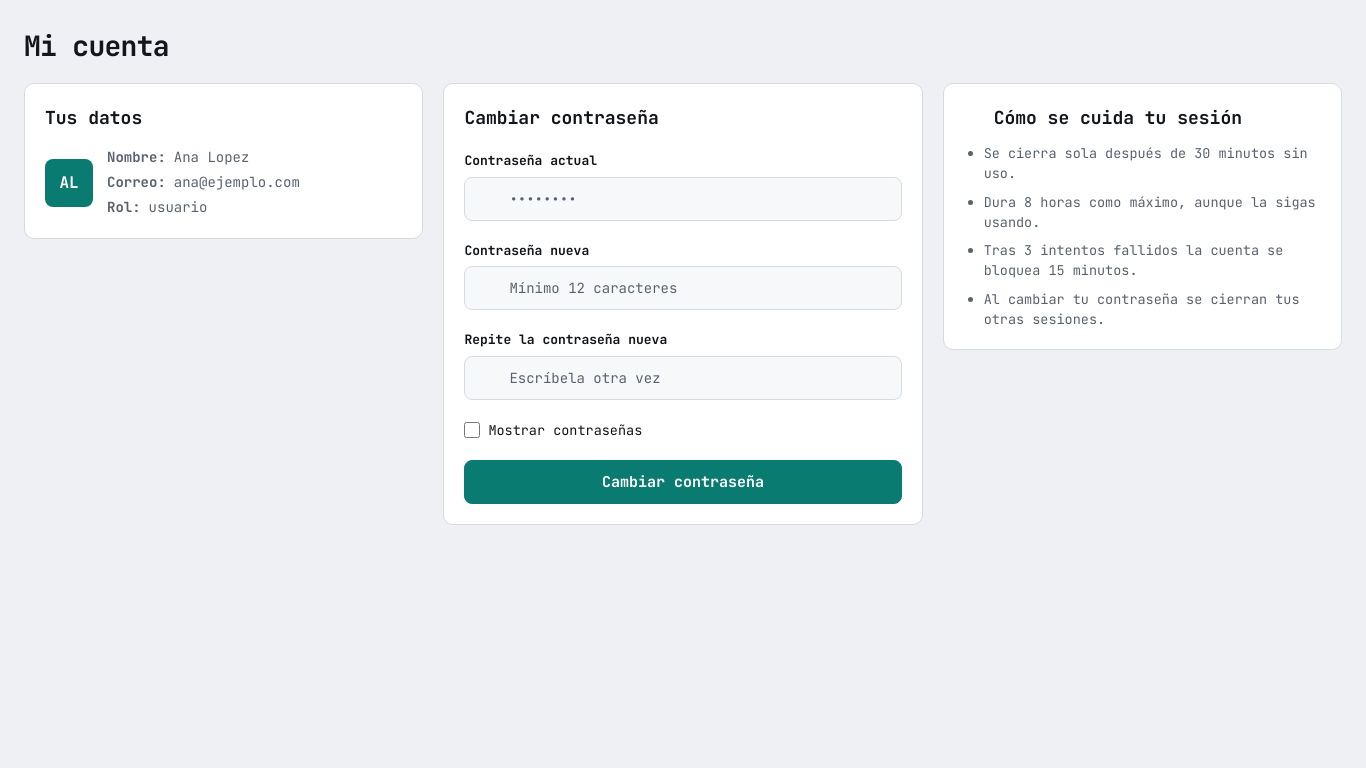
Test: PaginaMiCuenta › cambia la contraseña, avisa y limpia los campos
Type "la-clave-actual" into the password field labelled "Contraseña actual".
click(683, 198); type("la-clave-actual")  # box [464,176,902,220]
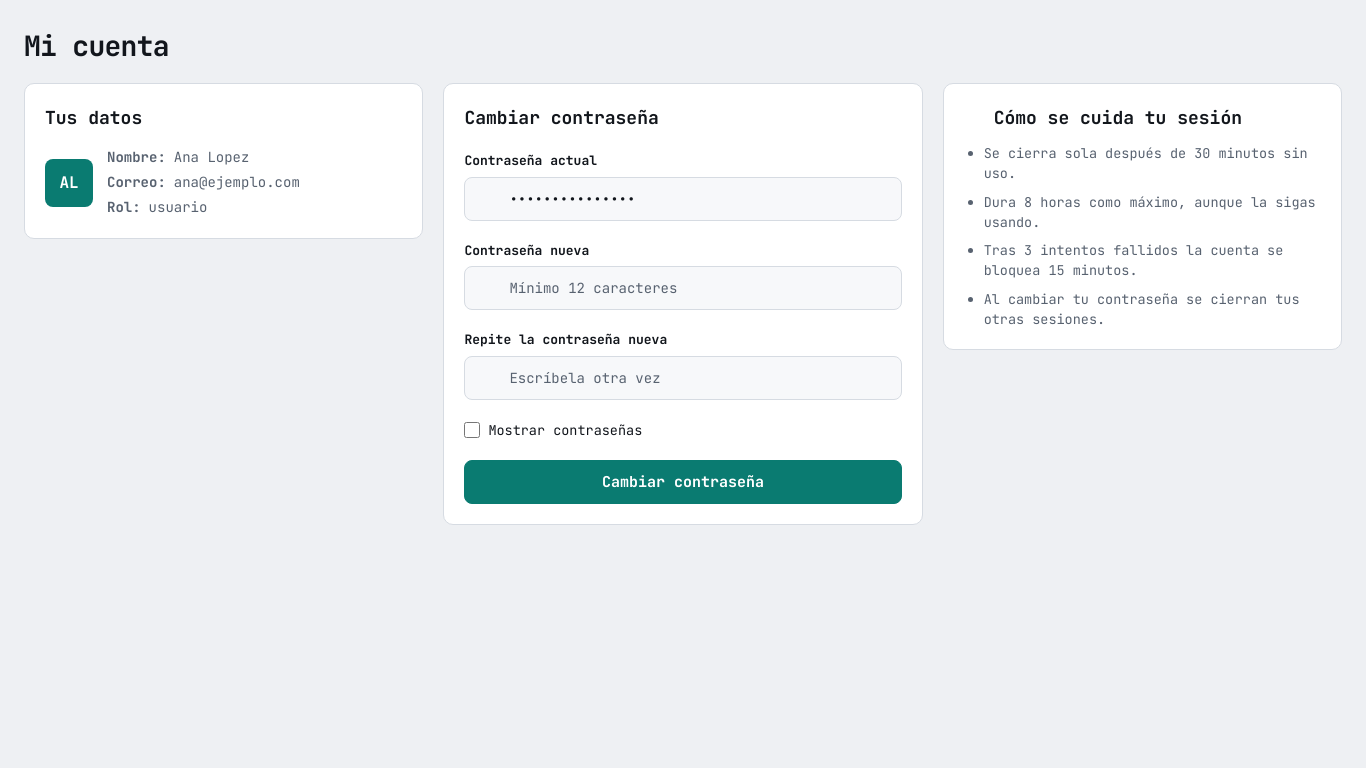
Type "una-clave-nueva-1" into the password field labelled "Contraseña nueva".
click(683, 288); type("una-clave-nueva-1")  # box [464,266,902,310]
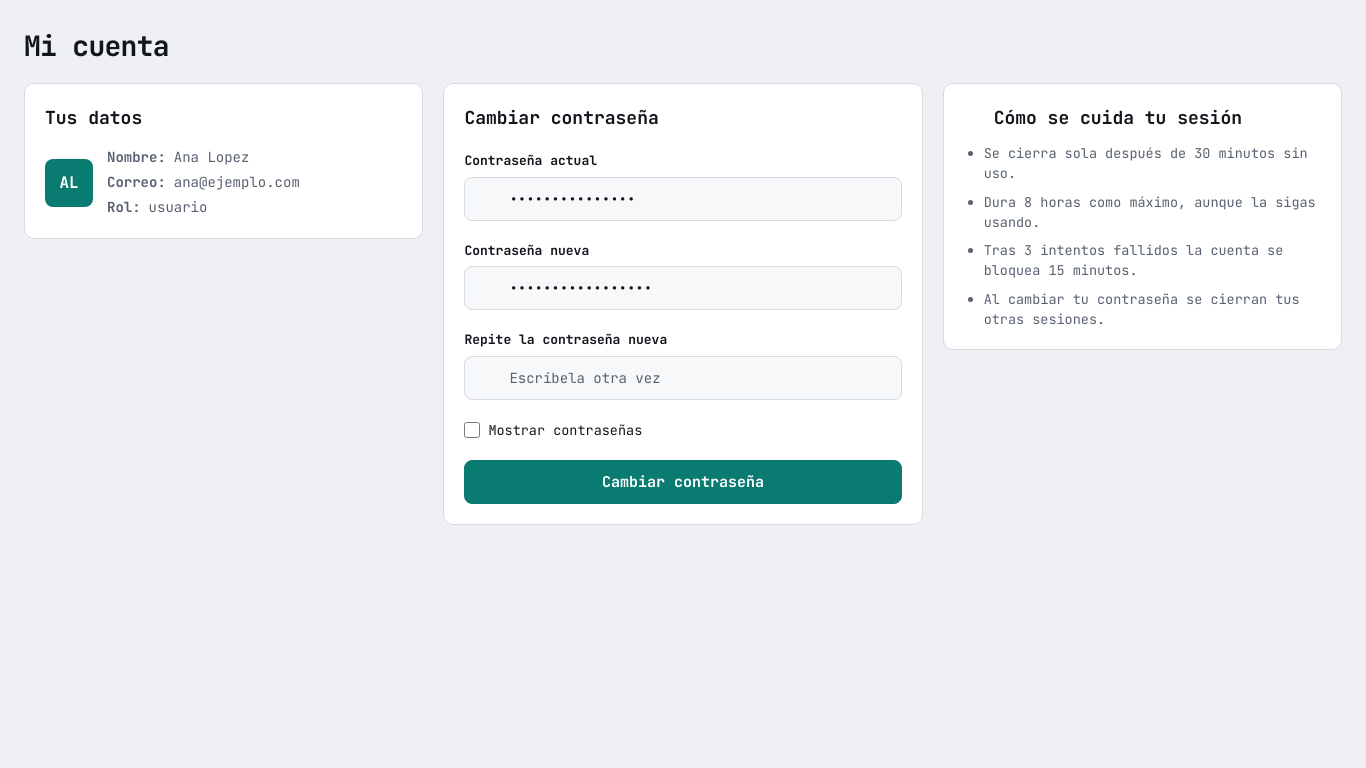
Type "una-clave-nueva-1" into the password field labelled "Repite la contraseña nueva".
click(683, 378); type("una-clave-nueva-1")  # box [464,356,902,400]
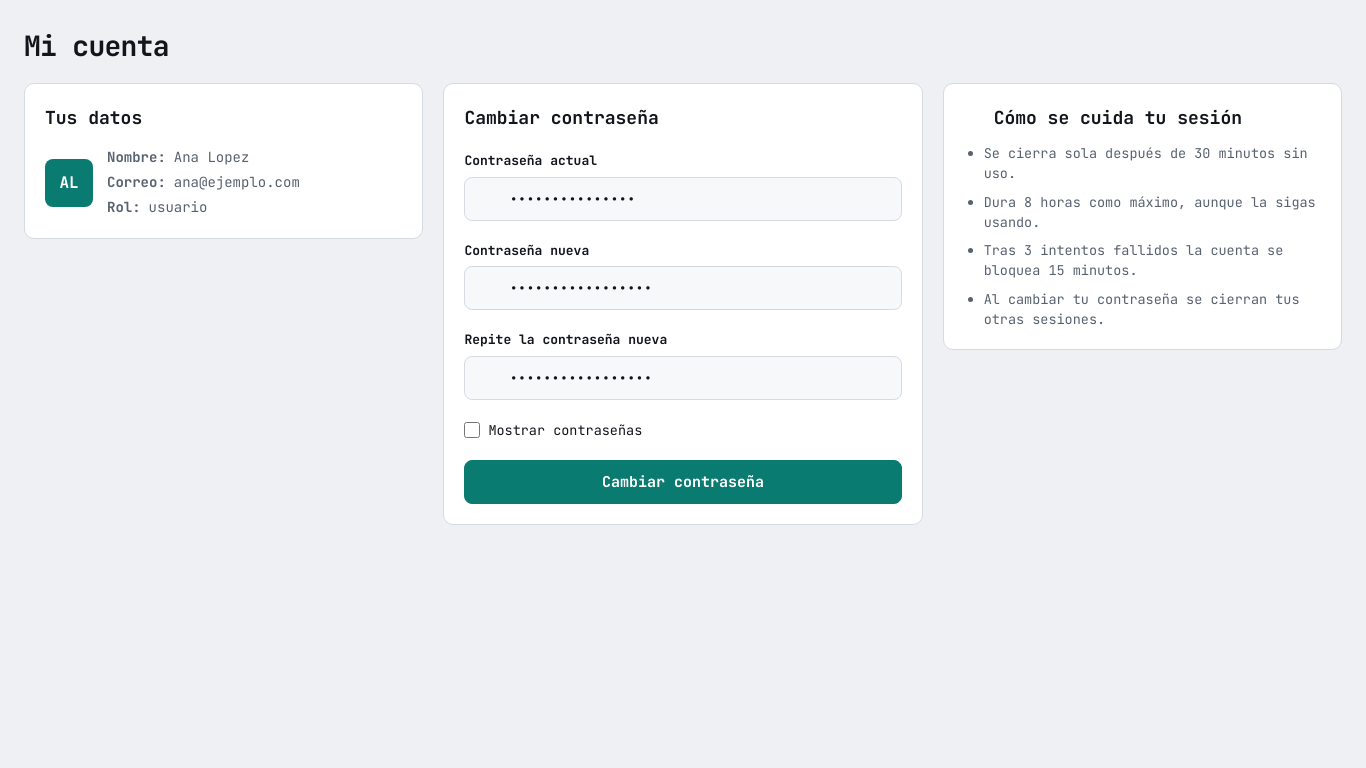
Click the button "Cambiar contraseña".
click(683, 482)  # box [464,460,902,504]
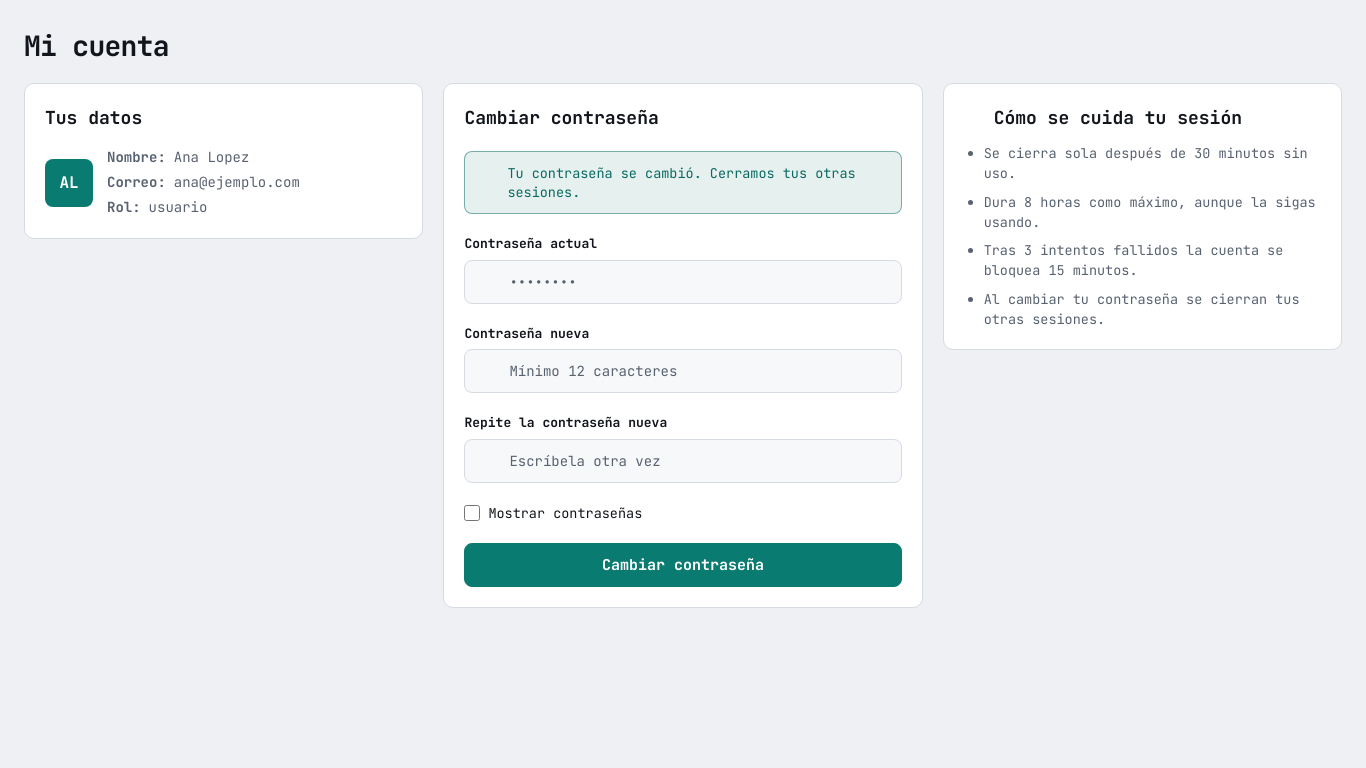
Result: the message reads "Tu contraseña se cambió. Cerramos tus otras sesiones." at [507,164,856,201]
Result: the password field labelled "Contraseña actual" is empty at [464,260,902,304]
Result: the password field labelled "Contraseña nueva" is empty at [464,349,902,393]
